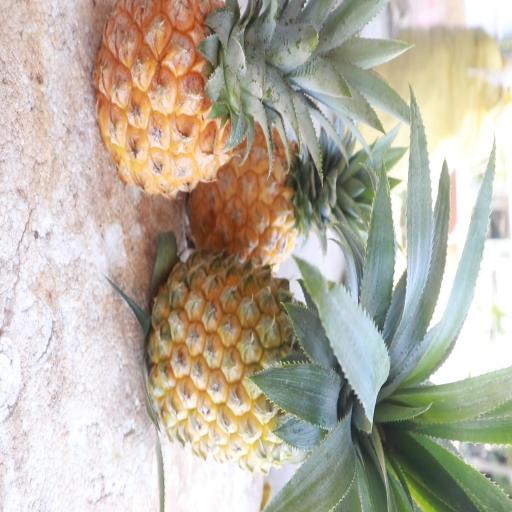Pineapple - v8 v1: (137, 242, 417, 466), (88, 1, 328, 201), (182, 107, 350, 273)
